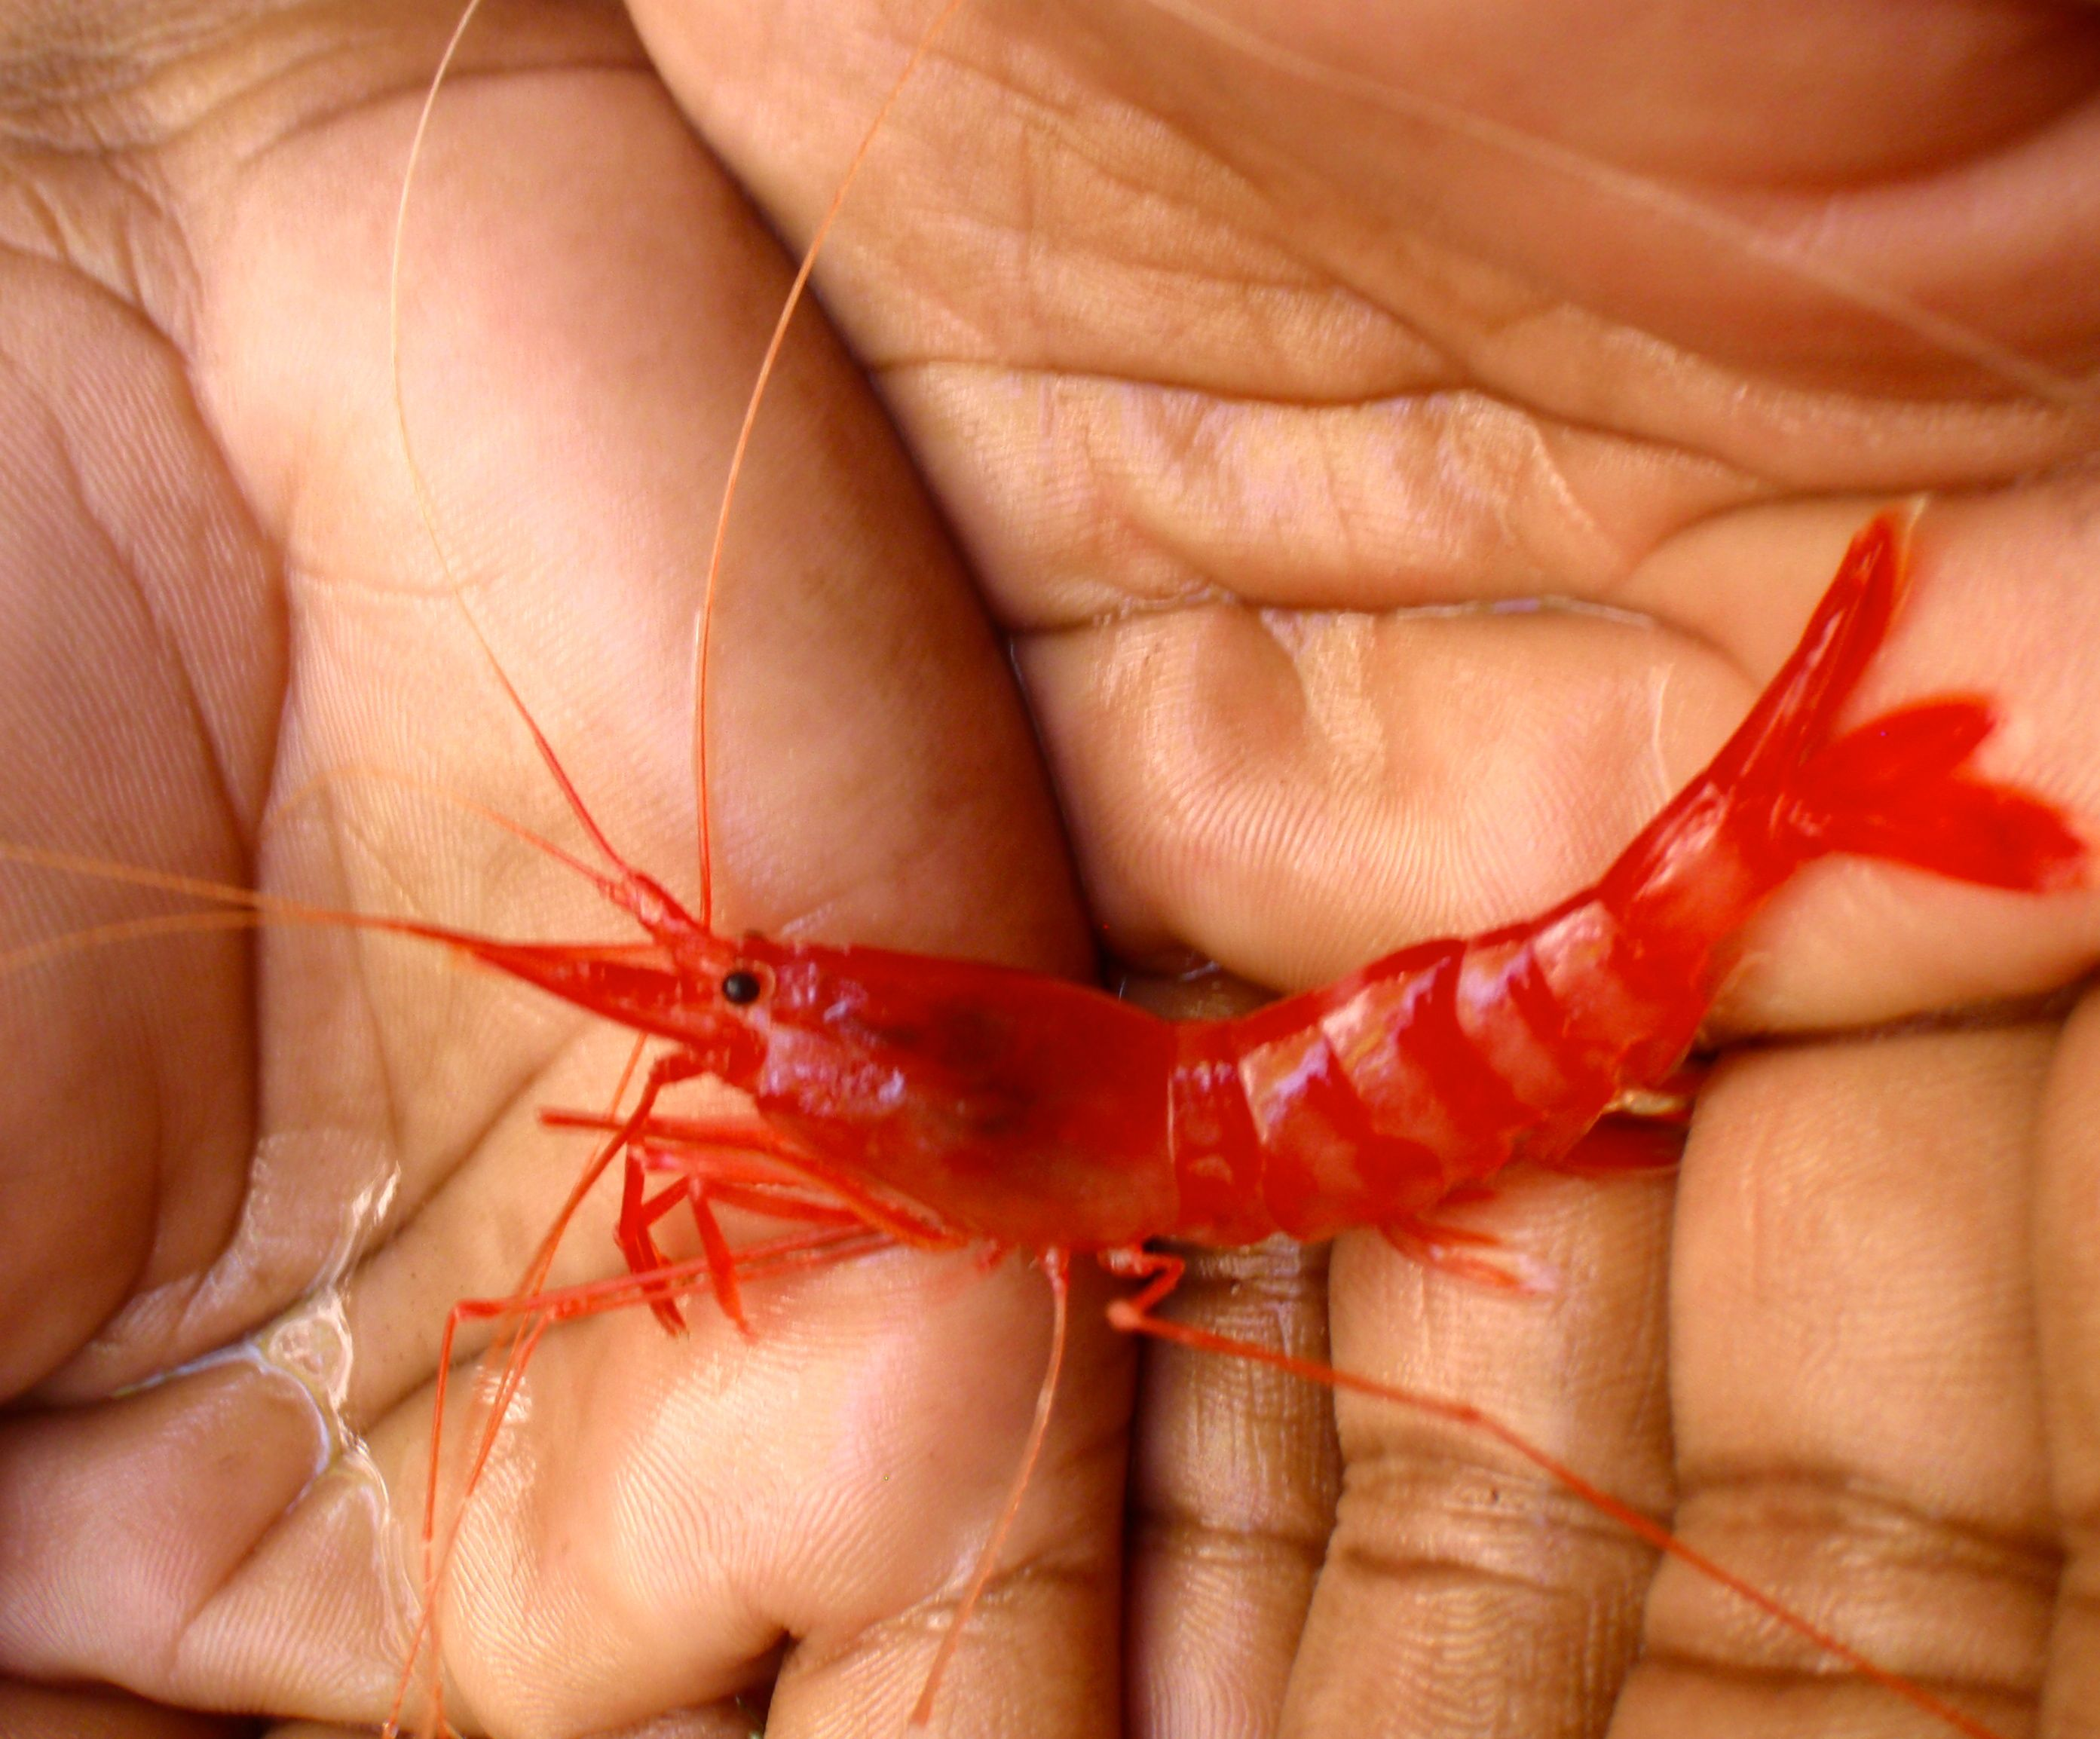Red Prawn: (518, 511, 2081, 1331)
